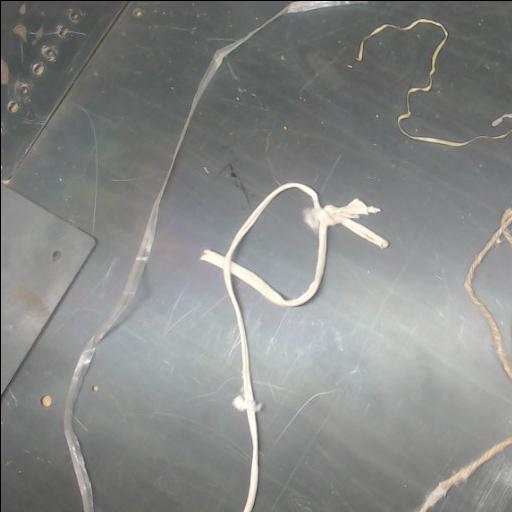cloth: (201, 181, 378, 512)
jute: (464, 208, 512, 381), (416, 435, 512, 512)
thread: (64, 1, 346, 512), (11, 1, 283, 271), (357, 18, 512, 145)
